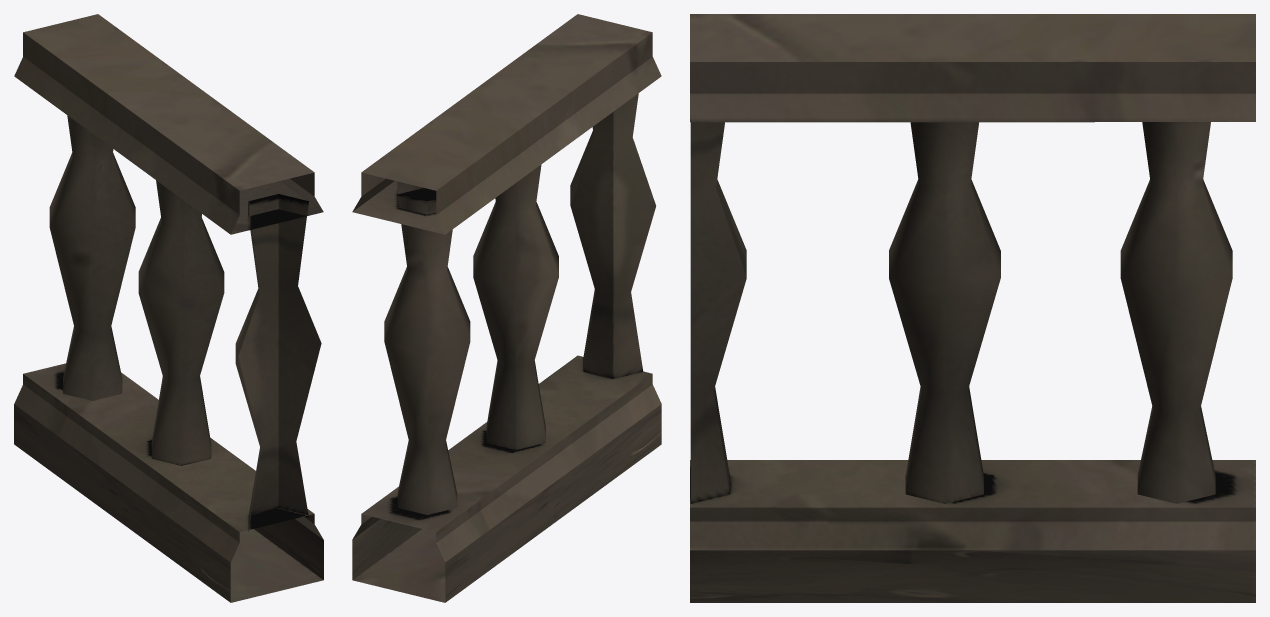
File: Obj_pasamanos2.fbx
The picture shows the model from 3 angles, left to right: view 1: azimuth 30°, elevation 25°; view 2: azimuth 150°, elevation 25°; view 3: azimuth 270°, elevation 25°; orthographic projection. The views are drawn at different scales.
Visible parts, largest first — view 1: Obj_pasamanos2_upend; view 2: Obj_pasamanos2_upend; view 3: Obj_pasamanos2_upend.
Part boxes in pixels (x1=…): Obj_pasamanos2_upend: x1=14, y1=14, x2=323, y2=602; Obj_pasamanos2_upend: x1=352, y1=14, x2=661, y2=602; Obj_pasamanos2_upend: x1=690, y1=14, x2=1255, y2=602.
Size of the model in its own units: 0.152 by 0.6395 by 0.6125.
